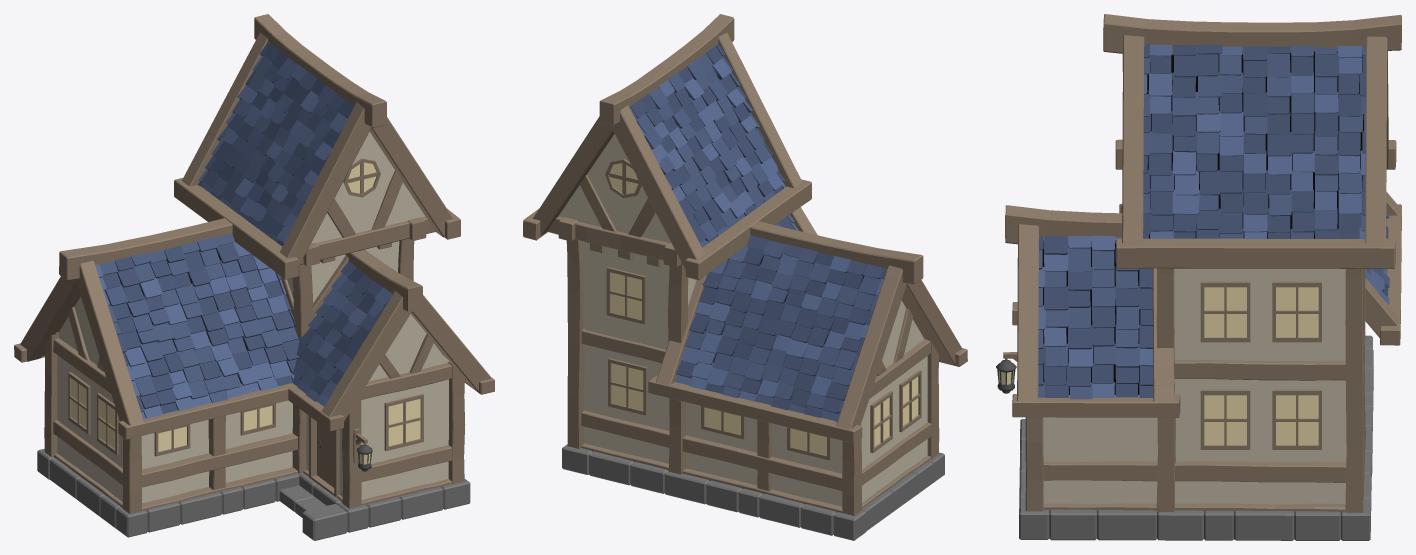
The model's file is FantasyHosue.fbx.
3 renders of one model, left to right at view 1: azimuth 30°, elevation 25°; view 2: azimuth 150°, elevation 25°; view 3: azimuth 270°, elevation 25°, orthographic. The views are drawn at different scales.
Parts seen in each view (by area): view 1: WoodStructure, RoofTiles, Walls, LargeStoneBricks, WindowFrames, OutdoorWindowPanes, Door; view 2: WoodStructure, RoofTiles, Walls, LargeStoneBricks, OutdoorWindowPanes, WindowFrames; view 3: WoodStructure, RoofTiles, Walls, LargeStoneBricks, OutdoorWindowPanes, WindowFrames, TileBacking.
Part boxes in pixels (x1,y1,x2,y2): WoodStructure: [14, 14, 494, 513]; RoofTiles: [95, 41, 392, 419]; Walls: [57, 132, 449, 503]; LargeStoneBricks: [37, 448, 470, 540]; WindowFrames: [68, 158, 423, 456]; OutdoorWindowPanes: [71, 162, 420, 451]; Door: [317, 422, 334, 487]; WoodStructure: [523, 14, 967, 515]; RoofTiles: [629, 43, 886, 422]; Walls: [558, 134, 927, 506]; LargeStoneBricks: [562, 444, 944, 540]; OutdoorWindowPanes: [610, 163, 918, 455]; WindowFrames: [605, 159, 921, 460]; WoodStructure: [1003, 14, 1401, 513]; RoofTiles: [1038, 43, 1389, 399]; Walls: [1043, 268, 1346, 504]; LargeStoneBricks: [1019, 335, 1373, 540]; OutdoorWindowPanes: [1204, 287, 1318, 445]; WindowFrames: [1200, 281, 1321, 449]; TileBacking: [1042, 51, 1363, 394].
Size of the model in its own units: 800 by 871 by 657.
